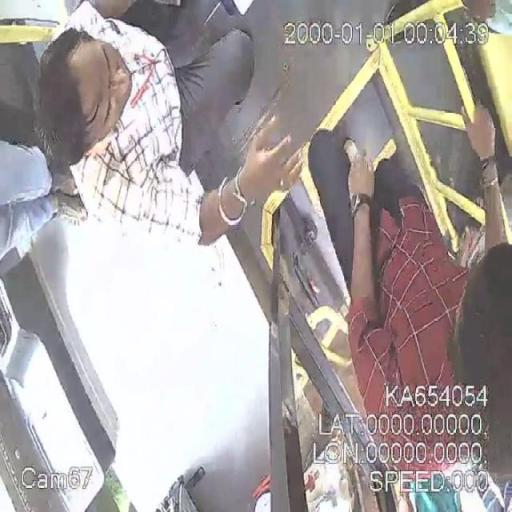persona: (310, 110, 510, 510), (22, 2, 304, 263)
